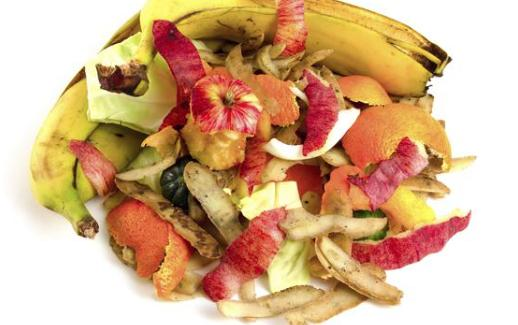organic: (100, 14, 457, 318), (213, 39, 329, 86), (189, 74, 260, 136), (119, 129, 182, 182)
